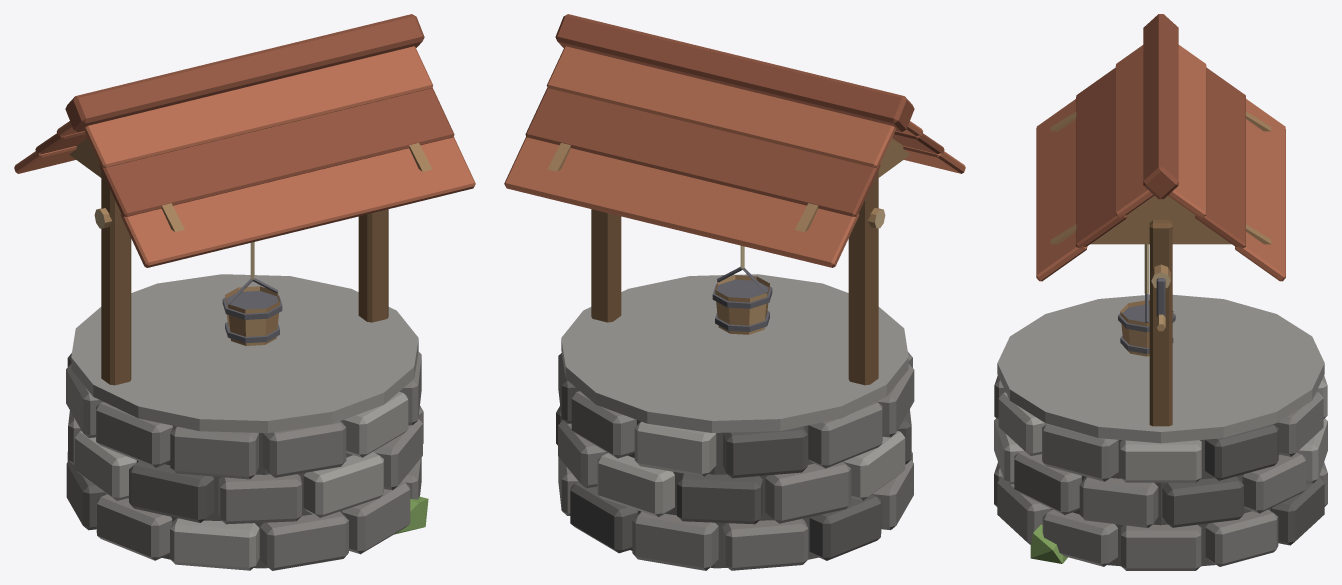
The model's file is well.glb.
3 views of the same model, side by side, from view 1: azimuth 30°, elevation 25°; view 2: azimuth 150°, elevation 25°; view 3: azimuth 270°, elevation 25° (orthographic). The views are drawn at different scales.
Parts seen in each view (by area): view 1: Well; view 2: Well; view 3: Well.
Boxes of the visible parts, left/top/right/bottom form: Well: left=14, top=14, right=475, bottom=570; Well: left=504, top=14, right=965, bottom=570; Well: left=994, top=14, right=1327, bottom=570.
Bounding box in the file's own units: 2.16 × 2.59 × 1.88.
